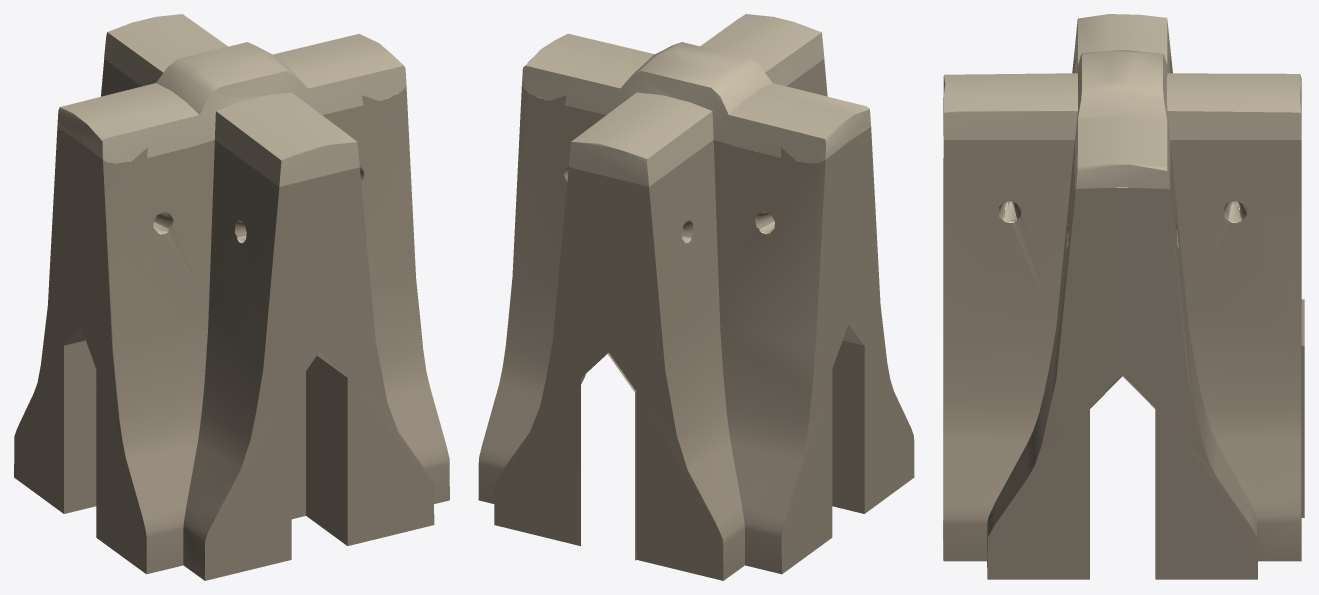
Rendered from stone-wall-nesw.glb.
3 renders of one model, left to right at view 1: azimuth 30°, elevation 25°; view 2: azimuth 150°, elevation 25°; view 3: azimuth 270°, elevation 25°, orthographic. The views are drawn at different scales.
Parts seen in each view (by area): view 1: body; view 2: body; view 3: body.
Part boxes in pixels (x1,y1,x2,y2): body: (14, 14, 449, 580); body: (478, 14, 914, 580); body: (943, 14, 1304, 579).
Bounding box in the file's own units: 0.992 × 1.32 × 0.9921.
